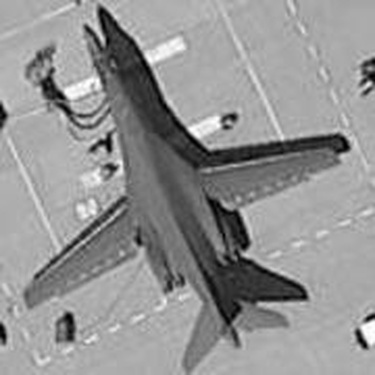airplane: (9, 15, 351, 371)
